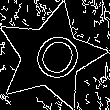O_SW: (19, 24, 83, 89)
